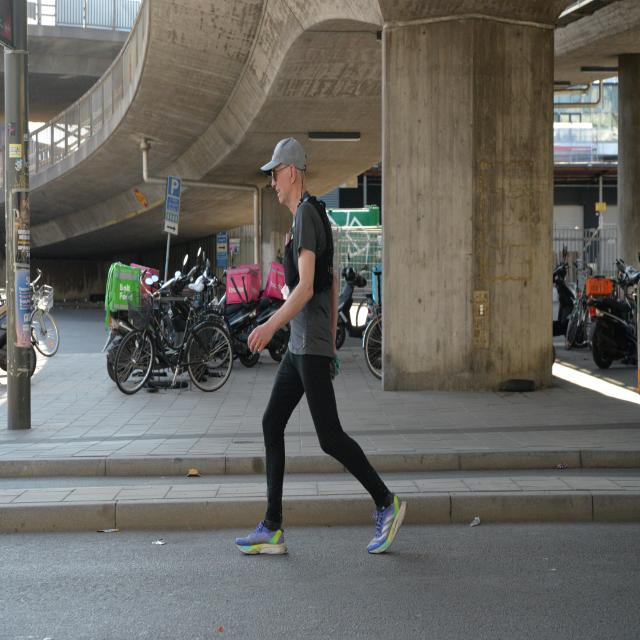runner-detect: (232, 138, 411, 571)
